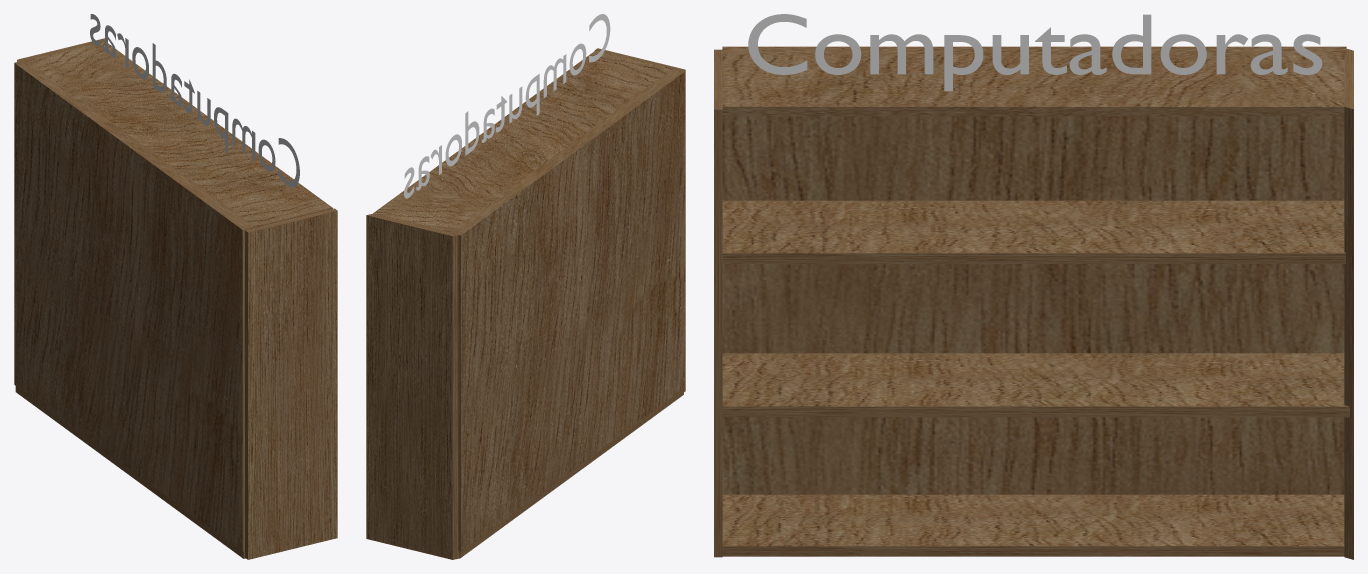
File: estantev2.glb
3 renders of one model, left to right at view 1: azimuth 30°, elevation 25°; view 2: azimuth 150°, elevation 25°; view 3: azimuth 270°, elevation 25°, orthographic. The views are drawn at different scales.
Visible parts, largest first — view 1: Cube, Texto; view 2: Cube, Texto; view 3: Cube, Texto.
Boxes of the visible parts, x1,y1,x2,y2 form: Cube: (14,38,337,559); Texto: (90,14,299,187); Cube: (366,48,685,559); Texto: (404,14,610,198); Cube: (714,46,1353,559); Texto: (748,14,1322,91).
Size of the model in its own units: 1.54 by 6.06 by 6.66.
Materials: 2 (1 with a texture image).
